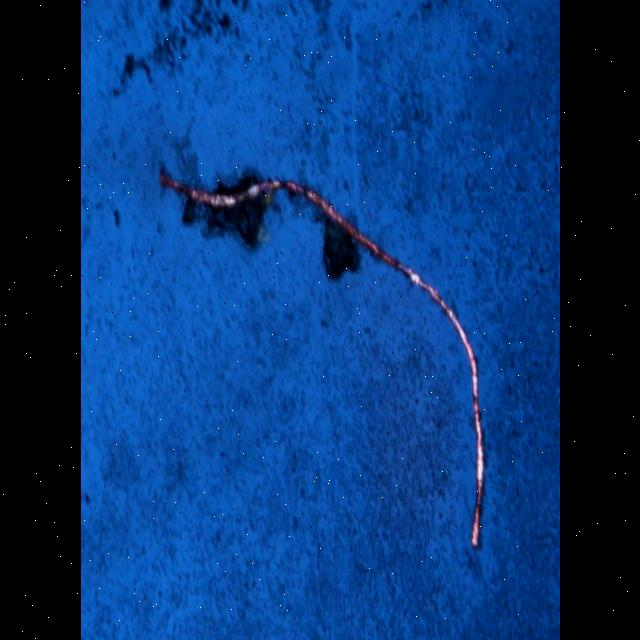Fibre: (158, 161, 484, 549)
